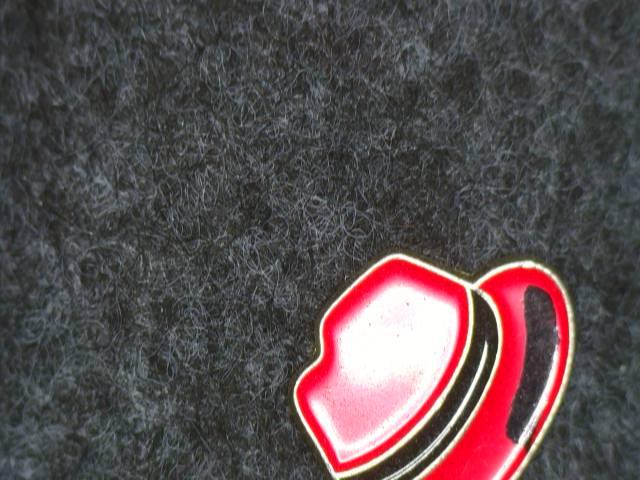Red-Hat: (254, 222, 615, 480)
Scratch: (492, 273, 572, 468)
